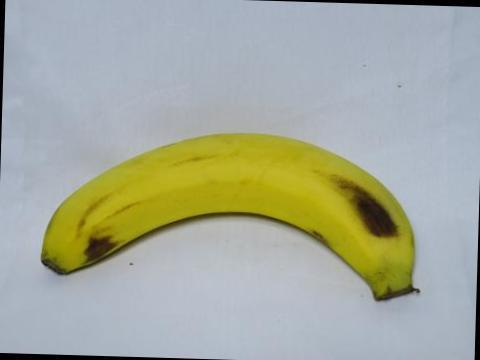freshripe: (33, 121, 434, 320)
